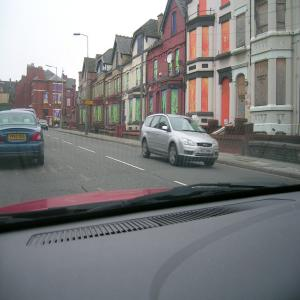Vehicle-registration-plate: (8, 136, 26, 142)
